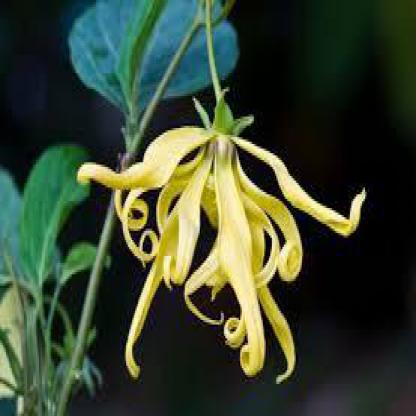Kenanga: (148, 74, 315, 371)
